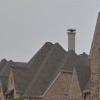Chimney: (61, 21, 82, 56)
